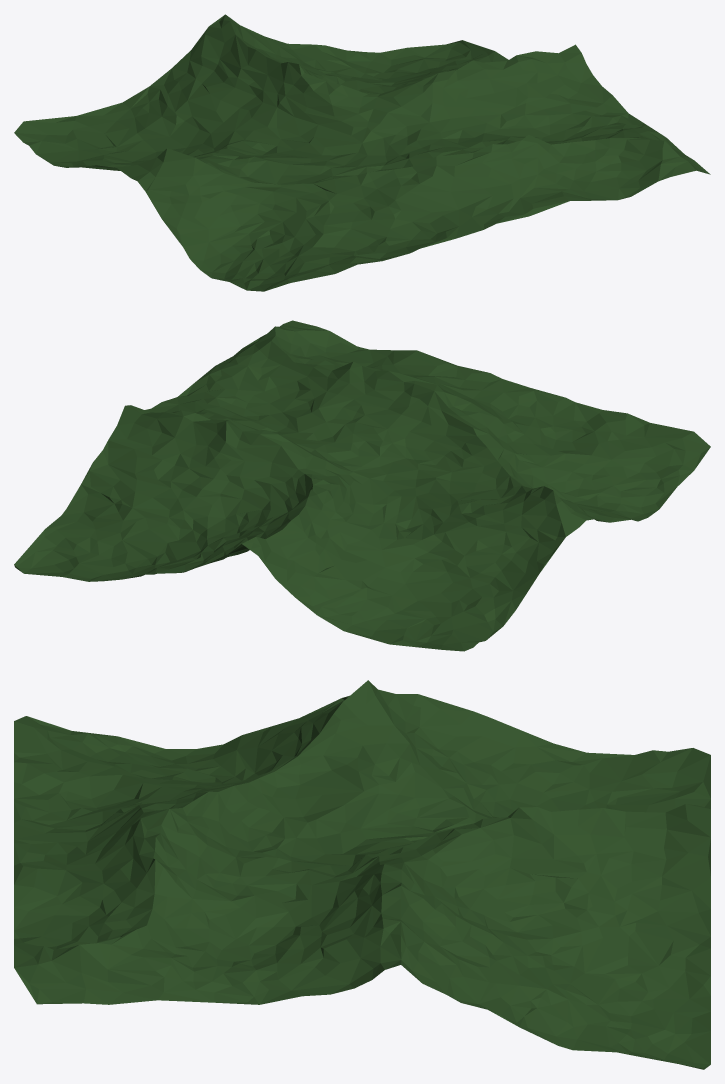
Rendered from SM_landscape_26.fbx.
3 views of the same model, one above another, from view 1: azimuth 30°, elevation 25°; view 2: azimuth 150°, elevation 25°; view 3: azimuth 270°, elevation 25° (orthographic). The views are drawn at different scales.
Visible parts, largest first — view 1: landscape_26; view 2: landscape_26; view 3: landscape_26.
Part boxes in pixels (x1=…): landscape_26: x1=14, y1=14, x2=710, y2=291; landscape_26: x1=14, y1=320, x2=710, y2=651; landscape_26: x1=14, y1=680, x2=710, y2=1069.
Size of the model in its own units: 2224 by 436 by 2224.
